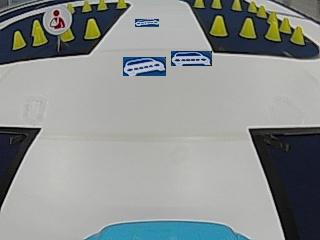cone: (265, 13, 280, 41), (31, 20, 47, 44), (210, 16, 228, 36), (84, 18, 100, 39), (240, 18, 256, 38), (291, 25, 305, 45), (12, 31, 26, 49), (60, 27, 74, 41), (280, 16, 290, 32), (231, 0, 242, 11), (97, 0, 108, 11), (81, 1, 91, 12), (211, 0, 222, 9), (115, 0, 126, 9), (193, 0, 205, 8)
patient: (45, 7, 70, 32)
